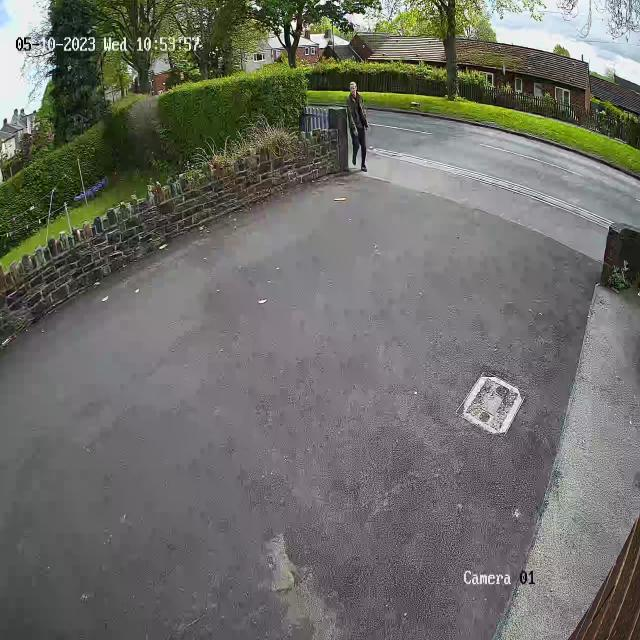human: (344, 72, 371, 182)
